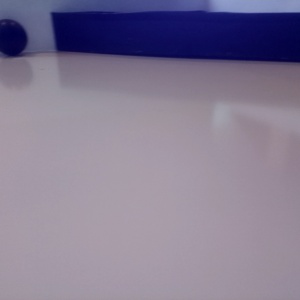zone: (52, 10, 300, 62)
